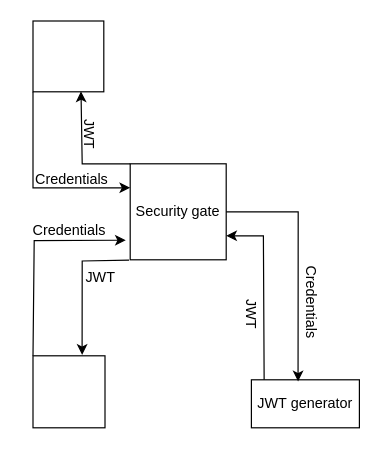
This 380x449 diagram has some shape labels left out. Each missing label, with the centre of its shape:
Customer: (x=68, y=56)
Seller: (x=68, y=391)
